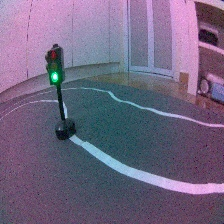green: (44, 43, 81, 141)
